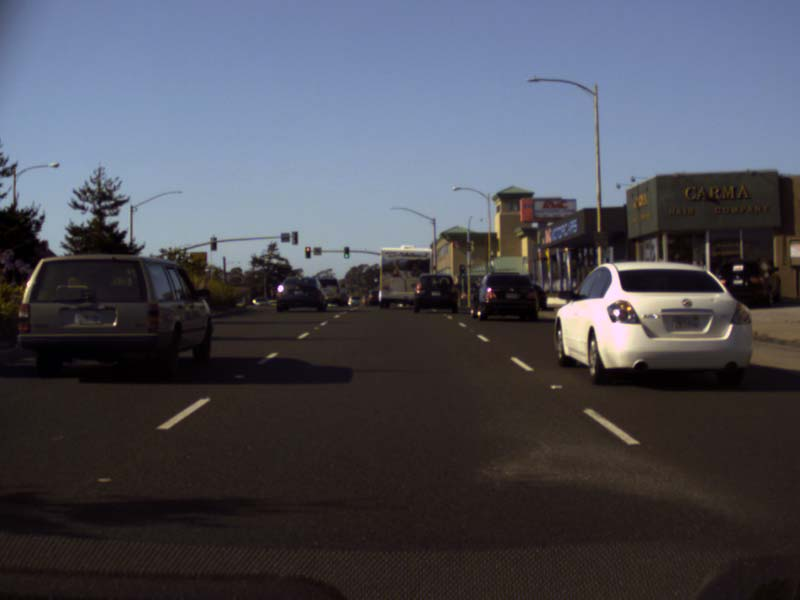Green: (343, 245, 349, 258)
Red: (304, 246, 309, 258)
